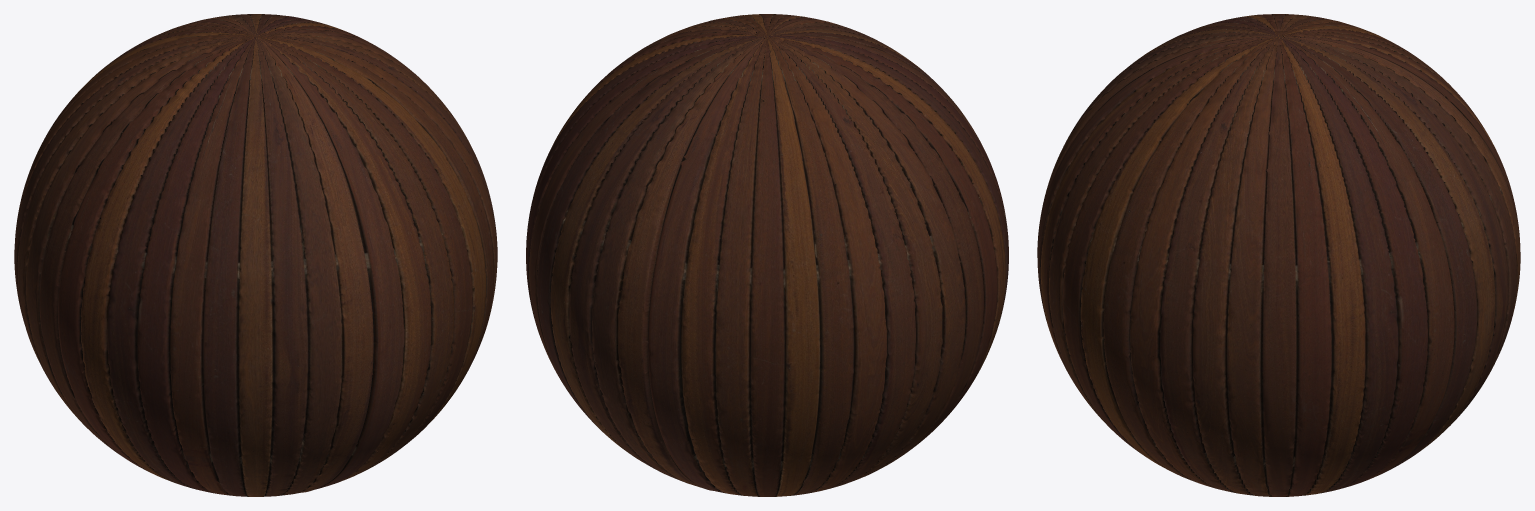
Rendered from plank_flooring_04_1k.gltf.
3 views of the same model, side by side, from view 1: azimuth 30°, elevation 25°; view 2: azimuth 150°, elevation 25°; view 3: azimuth 270°, elevation 25° (orthographic).
Parts seen in each view (by area): view 1: sphere_gltf; view 2: sphere_gltf; view 3: sphere_gltf.
Boxes of the visible parts, x1,y1,x2,y2 form: sphere_gltf: (14, 14, 497, 496); sphere_gltf: (526, 14, 1008, 496); sphere_gltf: (1037, 14, 1520, 496).
Bounding box in the file's own units: 2.05 × 2.05 × 2.05.
Materials: 1 (1 with a texture image).
